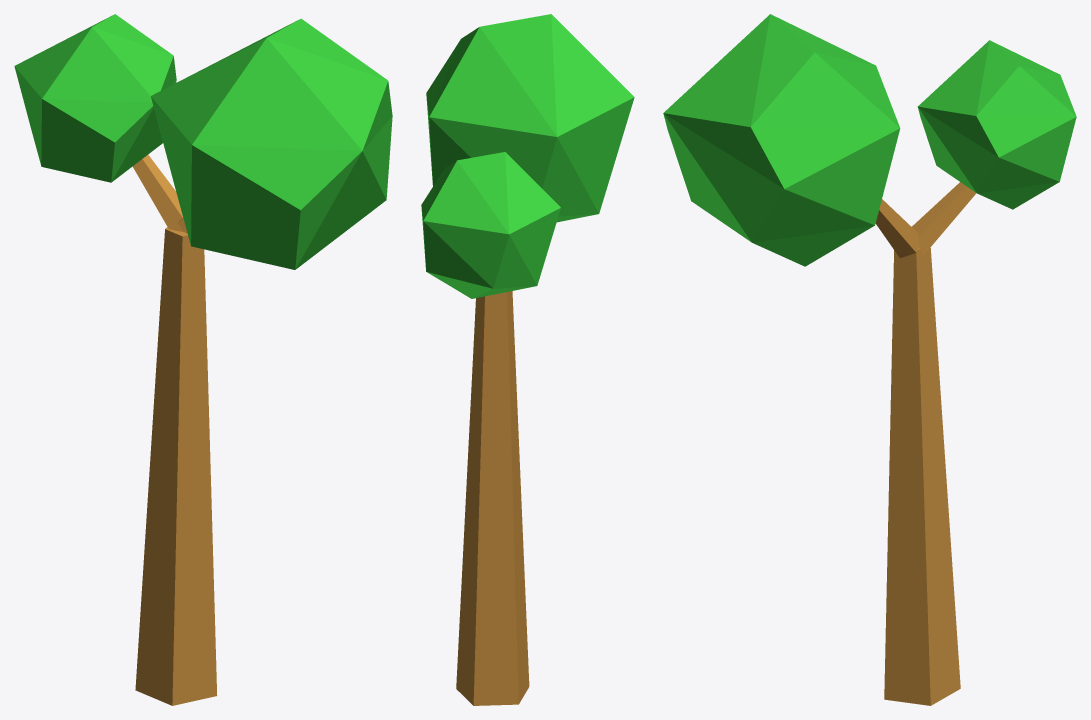
Rendered from TwoLeavesTree.fbx.
The picture shows the model from 3 angles, left to right: view 1: azimuth 30°, elevation 25°; view 2: azimuth 150°, elevation 25°; view 3: azimuth 270°, elevation 25°; orthographic projection. The views are drawn at different scales.
Visible parts, largest first — view 1: OtherTree.001; view 2: OtherTree.001; view 3: OtherTree.001.
Boxes of the visible parts, <box> form: OtherTree.001: <box>14,14,392,705</box>; OtherTree.001: <box>421,14,634,705</box>; OtherTree.001: <box>663,14,1076,705</box>.
Bounding box in the file's own units: 111 × 297 × 163.
